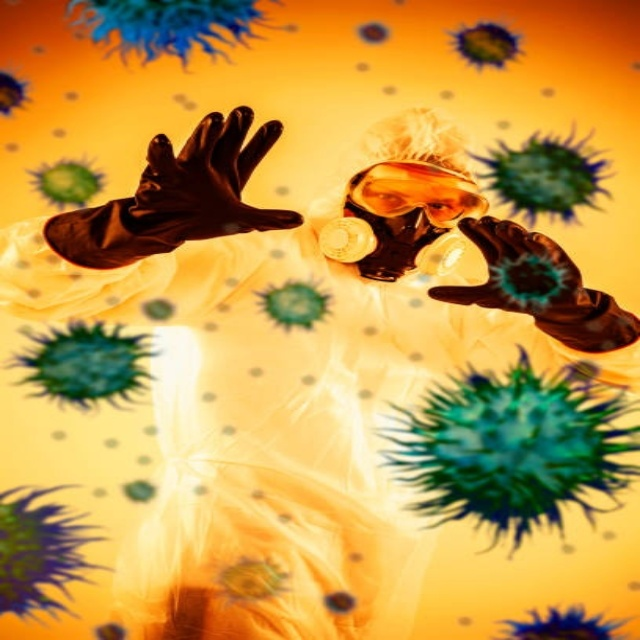Gafas: (347, 161, 490, 229)
Guantes: (40, 107, 306, 271), (426, 217, 638, 352)
Mascara: (317, 205, 466, 281)
